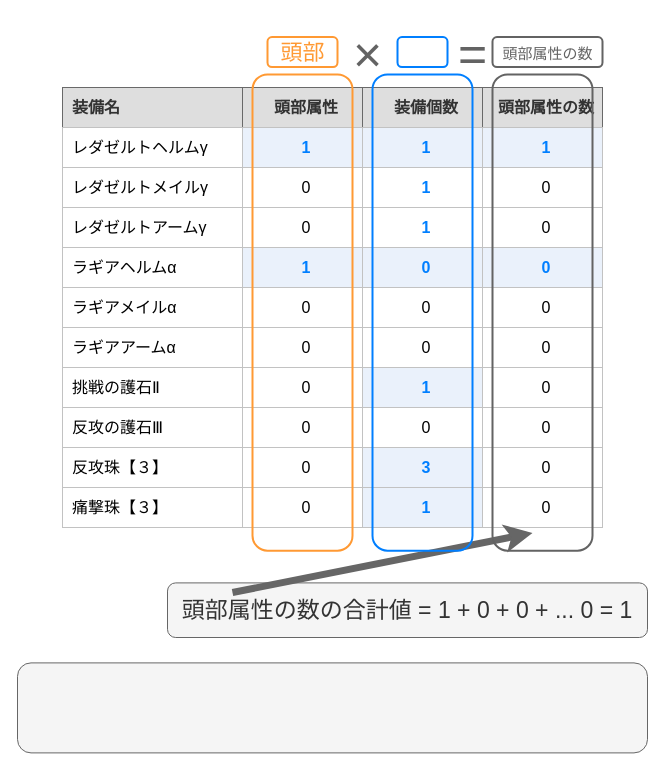
Image size: 665x771. Some labels were removed from this diagram. Each missing label, with the box of its shape:
解1: (396, 36, 448, 68)
解1 は 制約条件 「頭防具を1個以下しか装備できない」を満たしている！: (16, 662, 648, 753)
